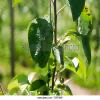Apple Scab Leaf: (28, 15, 60, 73), (68, 26, 99, 75), (77, 5, 94, 39)
